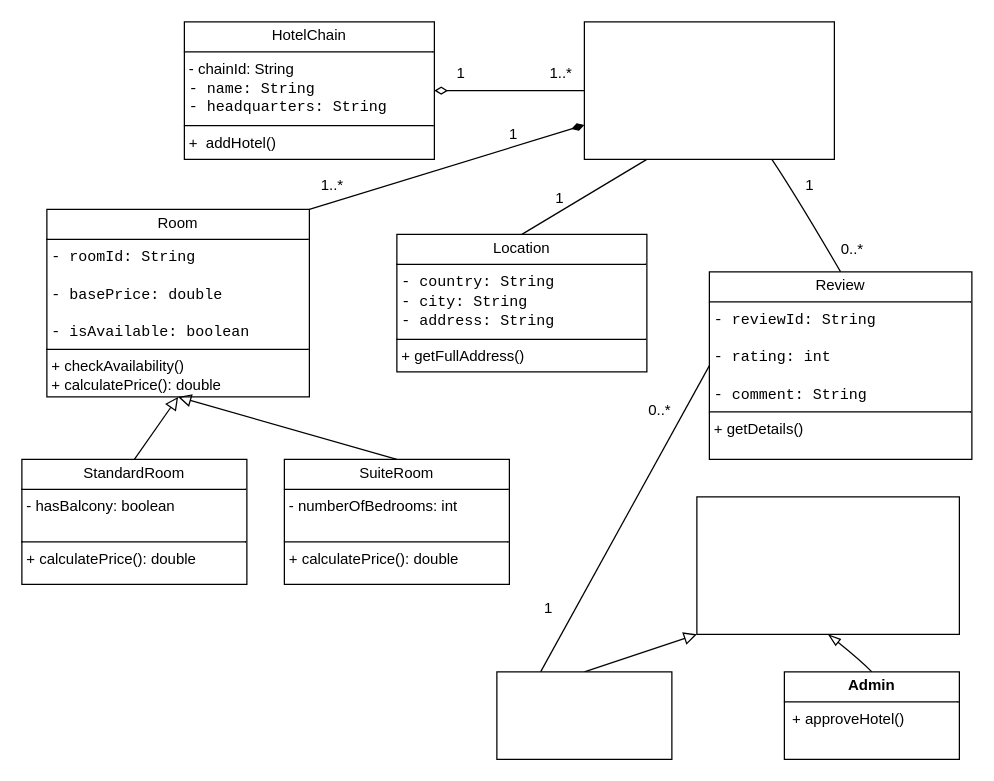
Some shapes in this 994 by 781 pixel diagram are drawn without their labels. Each missing label, with the box of its shape:
Guest + makeBooking() + leaveReview(): (496, 671, 672, 759)
Hotel - hotelId: String - name: String - starRating: int + getAvailableRooms(): (583, 21, 834, 159)
User - userId: String - name: String - email: String + login(): (696, 496, 959, 634)
